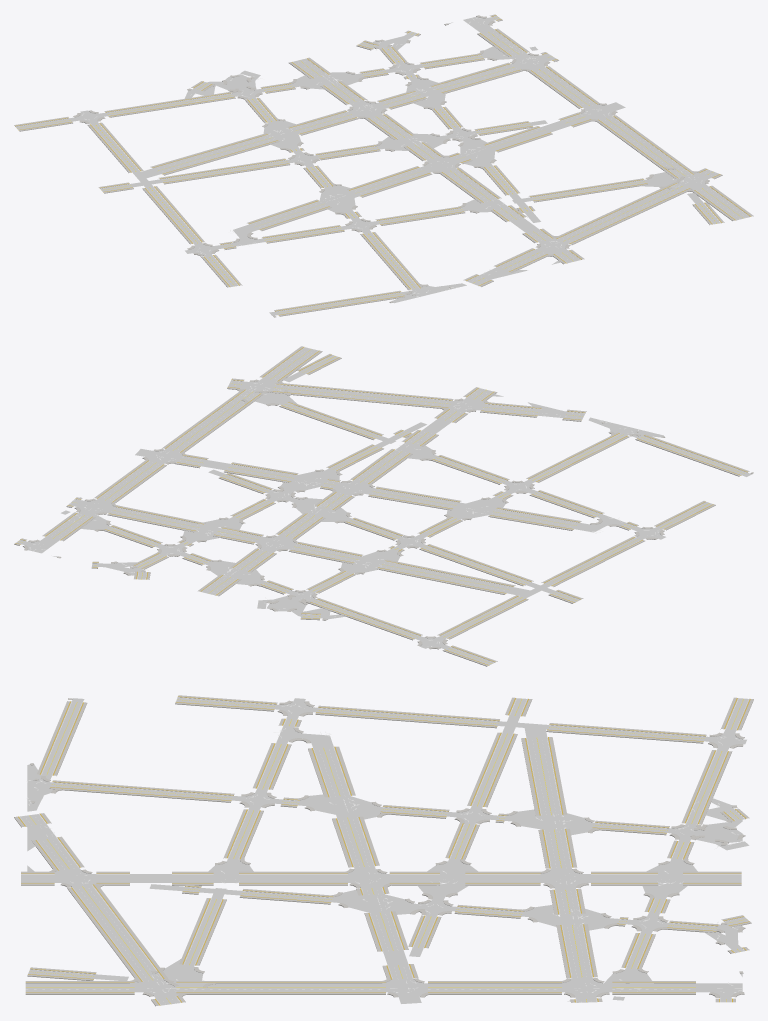
The model's file is roads_-2_-1.gltf.
The picture shows the model from 3 angles, top to bottom: view 1: azimuth 30°, elevation 25°; view 2: azimuth 150°, elevation 25°; view 3: azimuth 270°, elevation 25°; orthographic projection. The views are drawn at different scales.
Visible parts, largest first — view 1: roads_-2_-1_SH_wet_asphalt, roads_-2_-1_SH_sidewalk, roads_-2_-1_Road_Tactile_Strip, roads_-2_-1_SH_kerb, roads_-2_-1_SH_road_marking_white, roads_-2_-1_SH_road_marking_yellow; view 2: roads_-2_-1_SH_wet_asphalt, roads_-2_-1_SH_sidewalk, roads_-2_-1_Road_Tactile_Strip, roads_-2_-1_SH_kerb, roads_-2_-1_SH_road_marking_yellow, roads_-2_-1_SH_road_marking_white; view 3: roads_-2_-1_SH_wet_asphalt, roads_-2_-1_SH_sidewalk, roads_-2_-1_Road_Tactile_Strip, roads_-2_-1_SH_kerb, roads_-2_-1_SH_road_marking_white, roads_-2_-1_SH_road_marking_yellow.
Boxes of the visible parts, box(x1,y1,x2,y2) form: roads_-2_-1_SH_wet_asphalt: box(15, 16, 749, 315); roads_-2_-1_SH_sidewalk: box(14, 14, 753, 317); roads_-2_-1_Road_Tactile_Strip: box(15, 15, 750, 315); roads_-2_-1_SH_kerb: box(15, 15, 750, 315); roads_-2_-1_SH_road_marking_white: box(23, 17, 749, 310); roads_-2_-1_SH_road_marking_yellow: box(17, 17, 743, 312); roads_-2_-1_SH_wet_asphalt: box(16, 347, 751, 664); roads_-2_-1_SH_sidewalk: box(14, 346, 753, 666); roads_-2_-1_Road_Tactile_Strip: box(15, 347, 747, 665); roads_-2_-1_SH_kerb: box(18, 347, 751, 665); roads_-2_-1_SH_road_marking_yellow: box(18, 349, 744, 663); roads_-2_-1_SH_road_marking_white: box(25, 348, 729, 655); roads_-2_-1_SH_wet_asphalt: box(19, 697, 749, 1005); roads_-2_-1_SH_sidewalk: box(14, 695, 753, 1006); roads_-2_-1_Road_Tactile_Strip: box(18, 696, 750, 1005); roads_-2_-1_SH_kerb: box(19, 697, 749, 1005); roads_-2_-1_SH_road_marking_white: box(20, 697, 748, 1004); roads_-2_-1_SH_road_marking_yellow: box(26, 699, 746, 1003).
Size of what is drawn, in the model's own units: 527 by 0.506 by 530.
